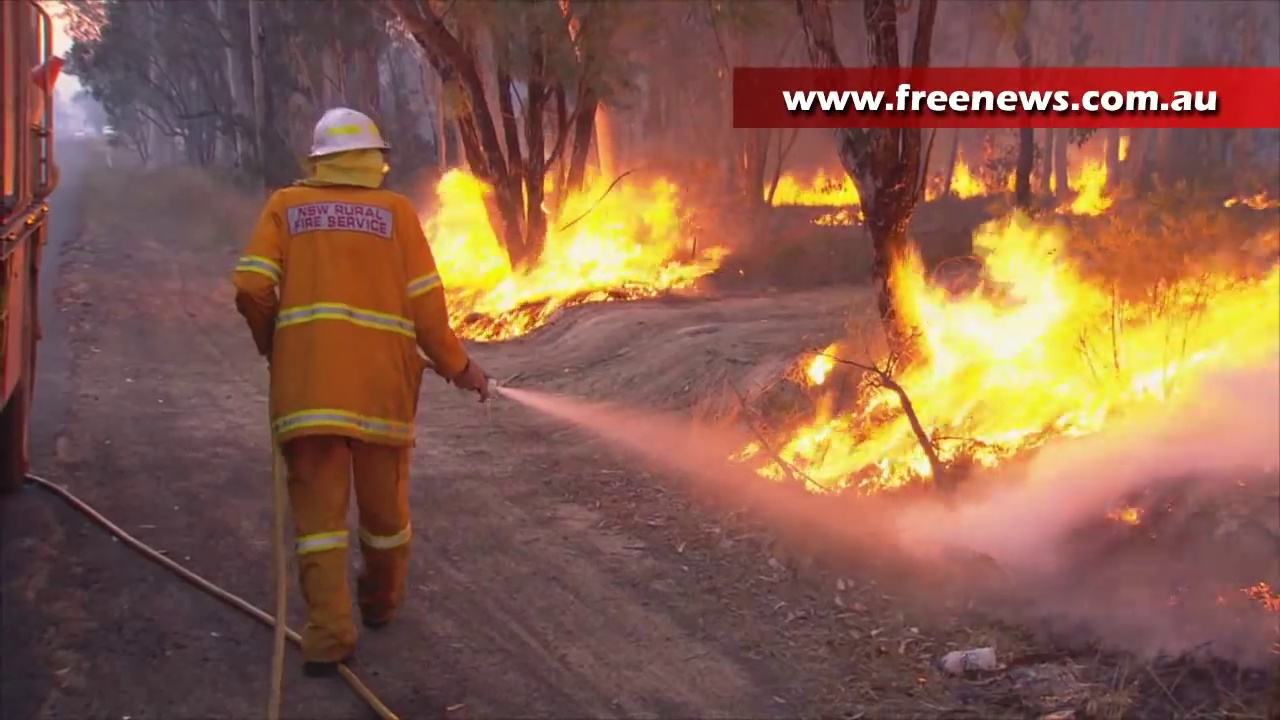fire: (765, 230, 1280, 485), (408, 162, 721, 337), (1071, 157, 1108, 211), (817, 173, 851, 204), (951, 160, 975, 198), (775, 176, 800, 205)
